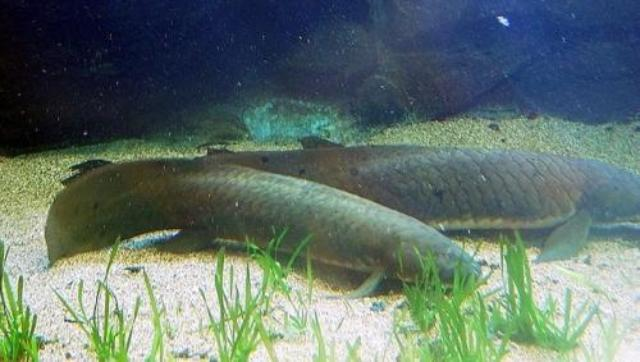Sirip Ekor: (22, 148, 150, 296)
